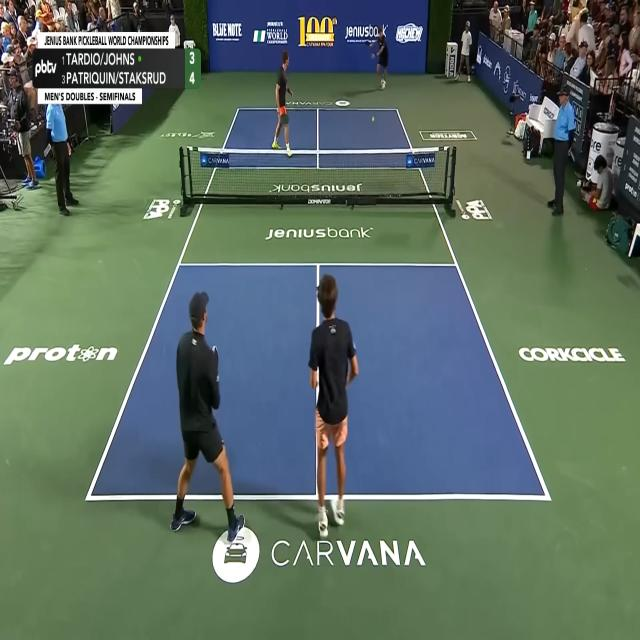ball: (372, 116, 375, 123)
